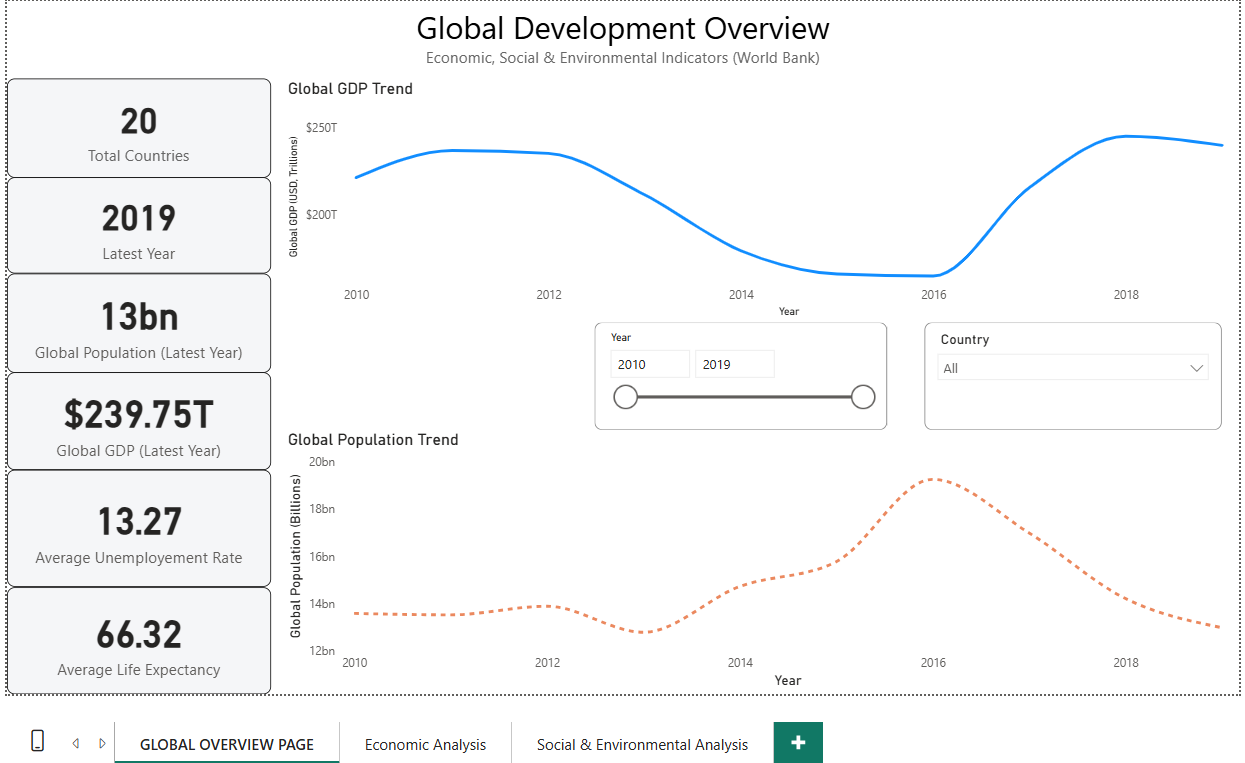

Layout of this report page (visuals, bound fields, positions):
{"tool":"powerbi","page":{"name":"GLOBAL OVERVIEW PAGE","canvas":[1280,720],"ordinal":0},"visuals":[{"type":"textbox","box":[0,0,1280,80],"z":0},{"type":"card","fields":{"Values":["world_bank_dataset.Total Countries"]},"box":[0,80,274.3,102.9],"z":1000},{"type":"card","fields":{"Values":["world_bank_dataset.Latest Year"]},"box":[0,182.9,274.3,100],"z":2000},{"type":"card","fields":{"Values":["world_bank_dataset.Global Population (Latest Year)"]},"box":[0,282.9,274.3,102.9],"z":3000},{"type":"card","fields":{"Values":["world_bank_dataset.Global GDP (Latest Year)"]},"box":[0,385.7,274.3,101.4],"z":4000},{"type":"card","fields":{"Values":["world_bank_dataset.Average Life Expectancy"]},"box":[0,608.6,274.3,111.4],"z":5000},{"type":"card","fields":{"Values":["world_bank_dataset.Average Unemployement Rate"]},"box":[0,487.1,274.3,121.4],"z":6000},{"type":"slicer","fields":{"Values":["world_bank_dataset.Year"]},"box":[610.4,333.8,303.9,111.7],"z":7000},{"type":"slicer","fields":{"Values":["world_bank_dataset.Country"]},"box":[953.2,333.8,309.1,111.7],"z":8000},{"type":"lineChart","title":"Global GDP Trend","fields":{"Y":["world_bank_dataset.Global GDP"],"Category":["world_bank_dataset.Year"]},"box":[287,80.5,993.5,253.2],"z":9000},{"type":"lineChart","title":"Global Population Trend","fields":{"Category":["world_bank_dataset.Year"],"Y":["world_bank_dataset.Global Population"]},"box":[287,445.5,993.5,274],"z":10000}]}

Visuals, with their boxes on the page's 1280x720 design canvas (x1, y1, x2, y2). These are canvas units, not pixel positions in the 1245x763 screenshot, which may show the page scaled, cropped or inside an application window:
textbox: box=[0, 0, 1280, 80]
card - world_bank_dataset.Total Countries: box=[0, 80, 274, 183]
card - world_bank_dataset.Latest Year: box=[0, 183, 274, 283]
card - world_bank_dataset.Global Population (Latest Year): box=[0, 283, 274, 386]
card - world_bank_dataset.Global GDP (Latest Year): box=[0, 386, 274, 487]
card - world_bank_dataset.Average Life Expectancy: box=[0, 609, 274, 720]
card - world_bank_dataset.Average Unemployement Rate: box=[0, 487, 274, 608]
slicer - world_bank_dataset.Year: box=[610, 334, 914, 446]
slicer - world_bank_dataset.Country: box=[953, 334, 1262, 446]
"Global GDP Trend" lineChart: box=[287, 80, 1280, 334]
"Global Population Trend" lineChart: box=[287, 446, 1280, 720]
